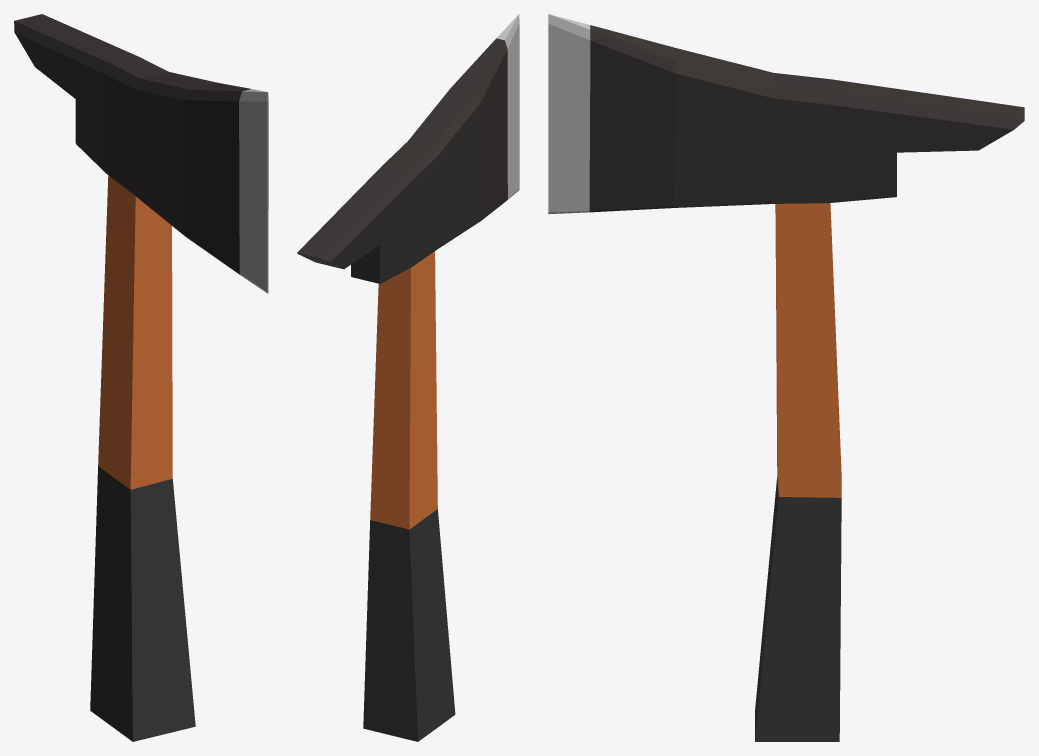
File: weapon_ml0 - fireaxe.fbx
3 views of the same model, side by side, from view 1: azimuth 30°, elevation 25°; view 2: azimuth 150°, elevation 25°; view 3: azimuth 270°, elevation 25° (orthographic). The views are drawn at different scales.
Visible parts, largest first — view 1: ml0.main; view 2: ml0.main; view 3: ml0.main.
Part boxes in pixels (<box>): ml0.main: <box>14,14,268,741</box>; ml0.main: <box>297,14,519,741</box>; ml0.main: <box>548,14,1024,741</box>.
Bounding box in the file's own units: 27.36 × 299 × 181.
